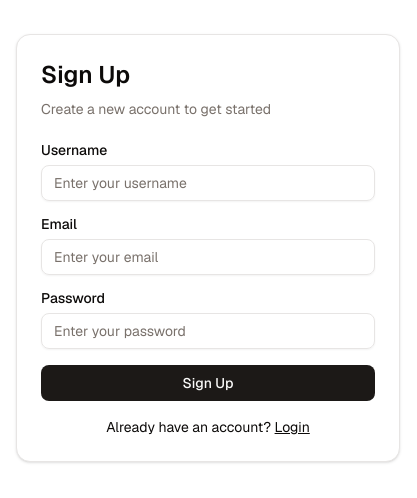
Test: Register Page › should show validation errors for empty fields
This screenshot has width=417, height=498.
What coordinates should you click on to do the following:
click the button "Sign Up"
I would click on:
 (208, 383)
Its box is left=41, top=365, right=375, bottom=401.
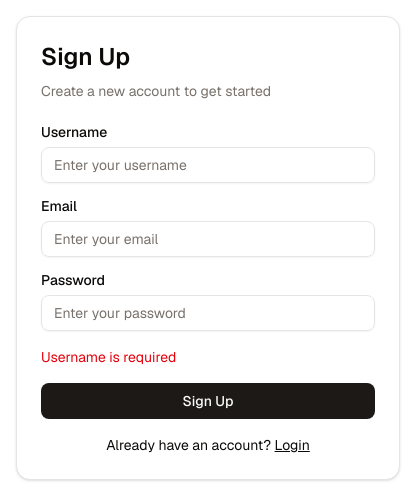
expect the text "Username is required" is shown: met, box left=41, top=348, right=176, bottom=366
